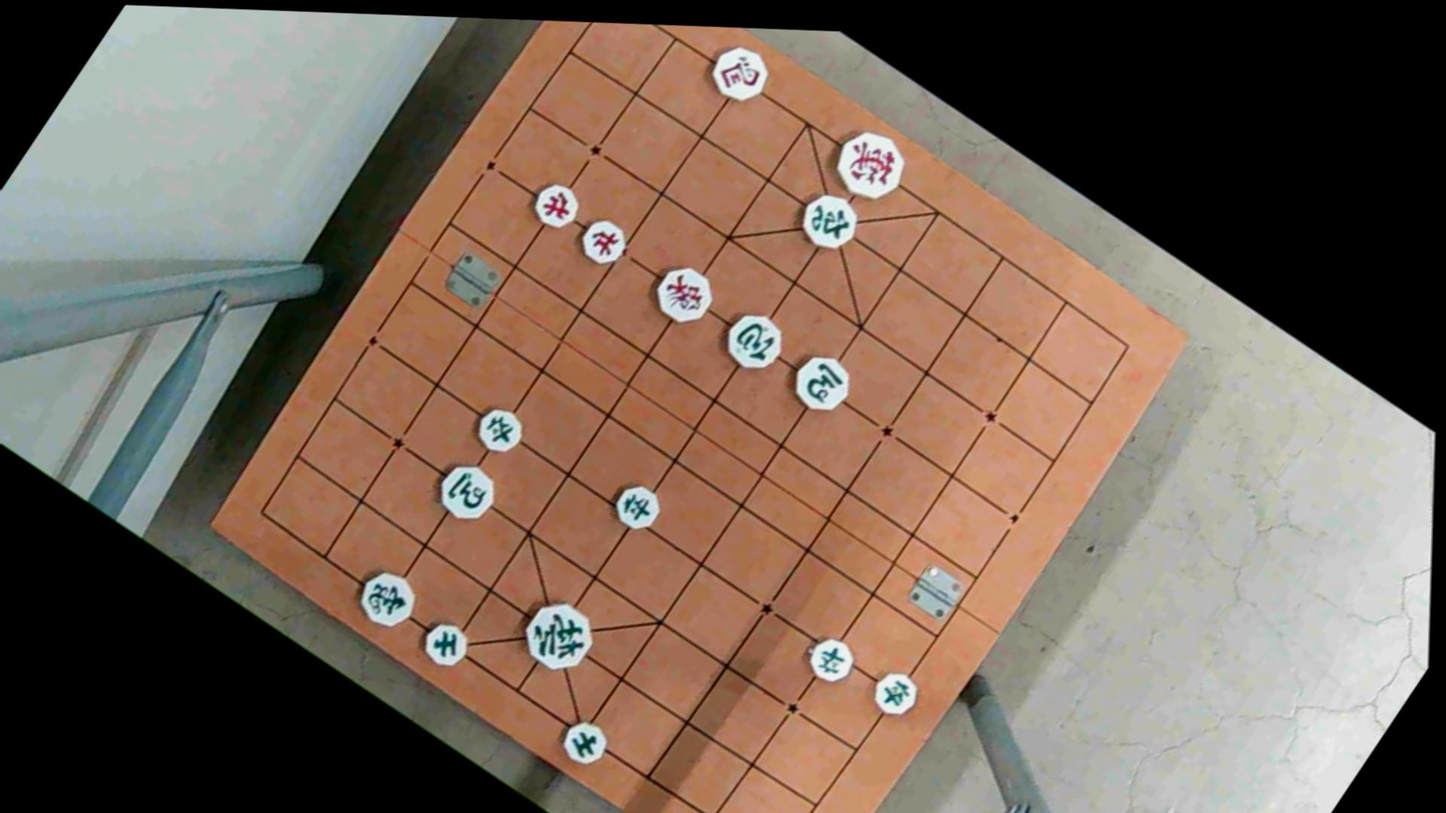cha_green: (793, 184, 867, 257)
jol_green: (466, 398, 532, 462), (798, 629, 862, 691), (865, 662, 927, 723), (606, 476, 667, 536)
jol_red: (525, 173, 588, 236), (573, 212, 636, 274)
ma_green: (781, 344, 862, 423), (429, 455, 505, 529)
ma_red: (699, 33, 780, 113)
po_green: (714, 303, 794, 379)
sa_green: (551, 712, 613, 774), (413, 615, 476, 676)
sang_green: (349, 560, 424, 635)
sang_red: (646, 259, 720, 333)
wang_green: (513, 594, 604, 683)
wang_red: (823, 121, 916, 212)
